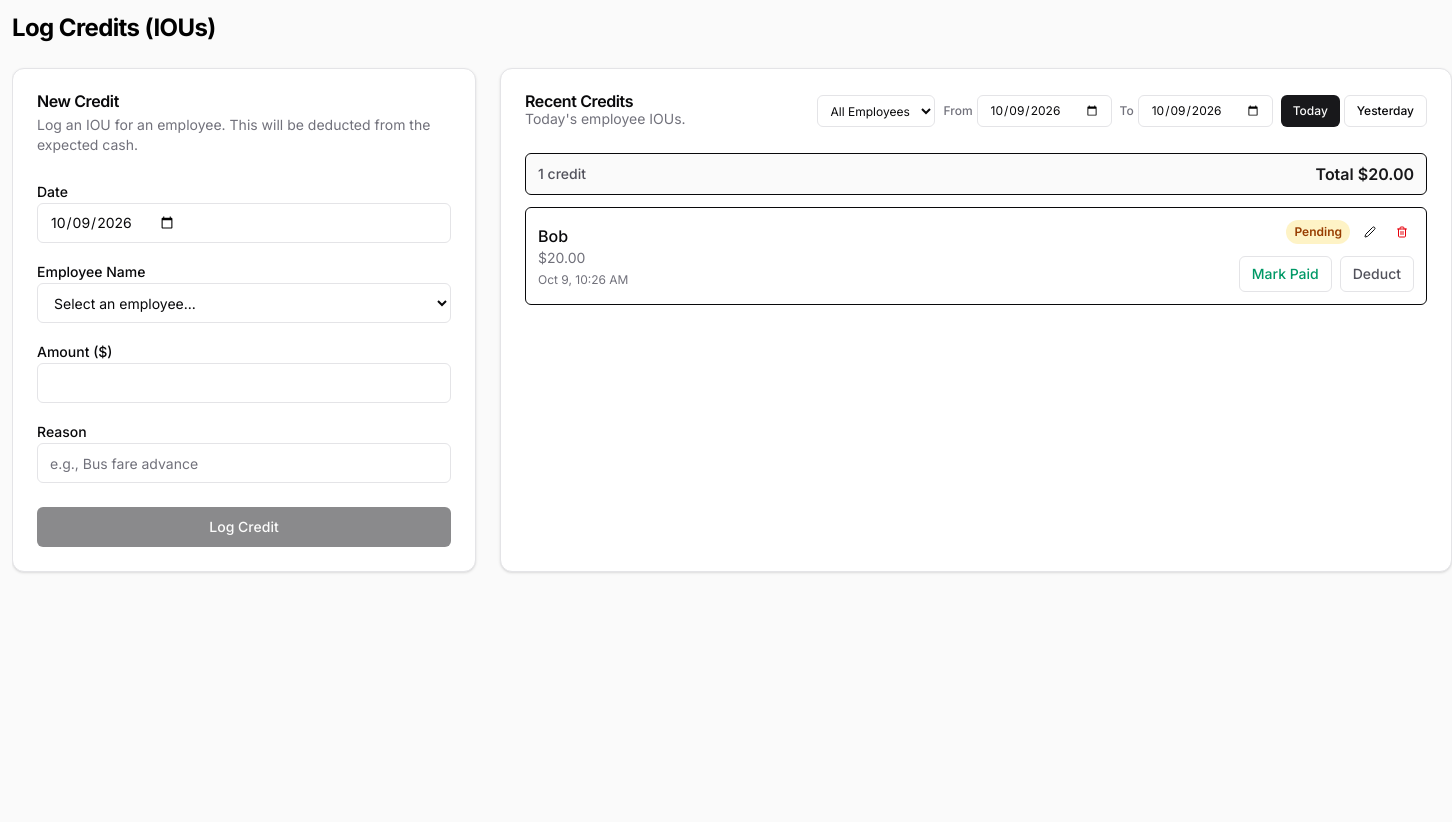
Test: Credits - Edit & Failure Paths › edits a credit inline and updates it via PUT
Click the 3rd button: (1370, 232) x1=1358 y1=220 x2=1382 y2=244
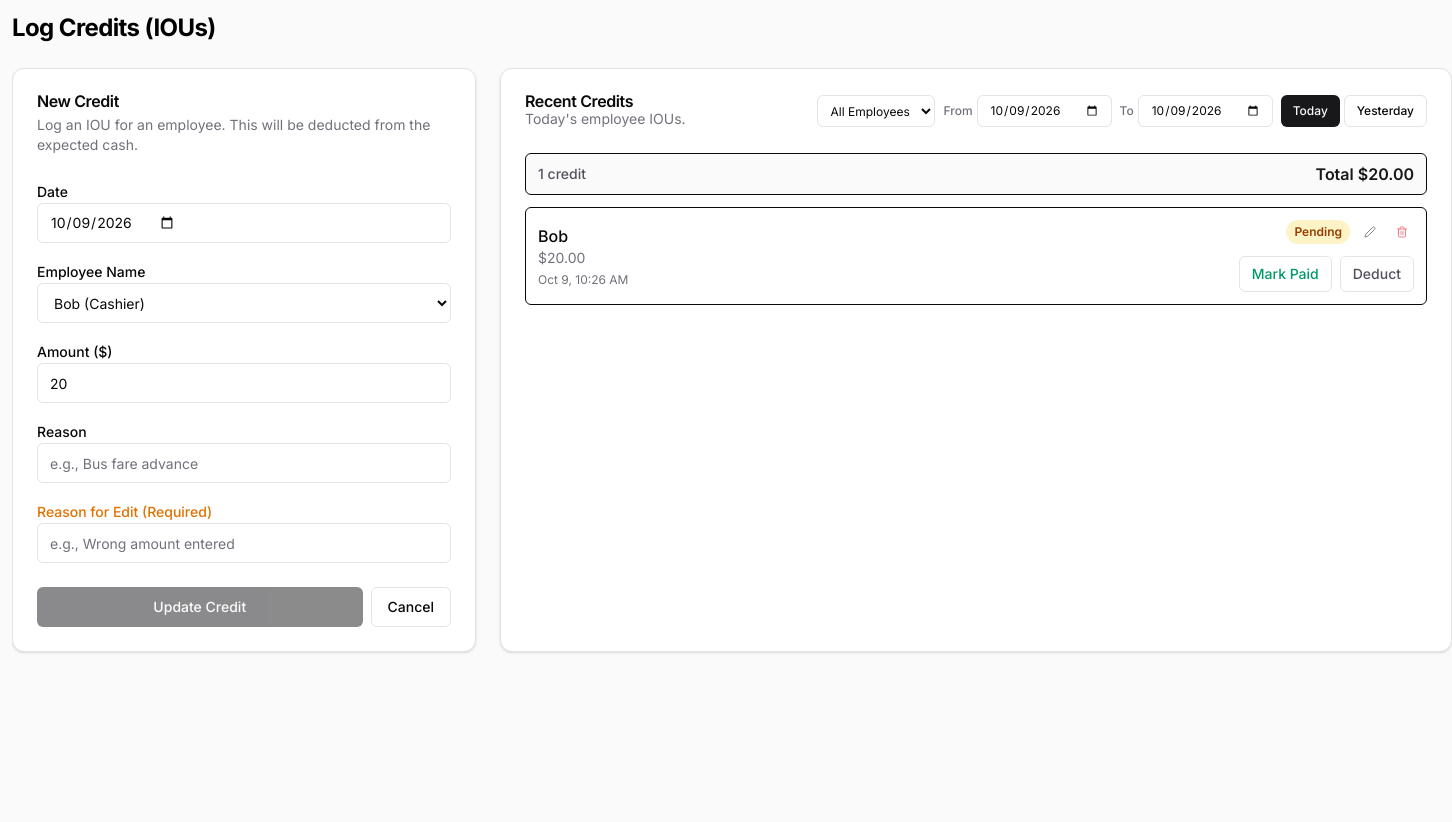
Replace the text in the number field labelled "Amount ($)" with "25": (244, 383) x1=37 y1=363 x2=451 y2=403
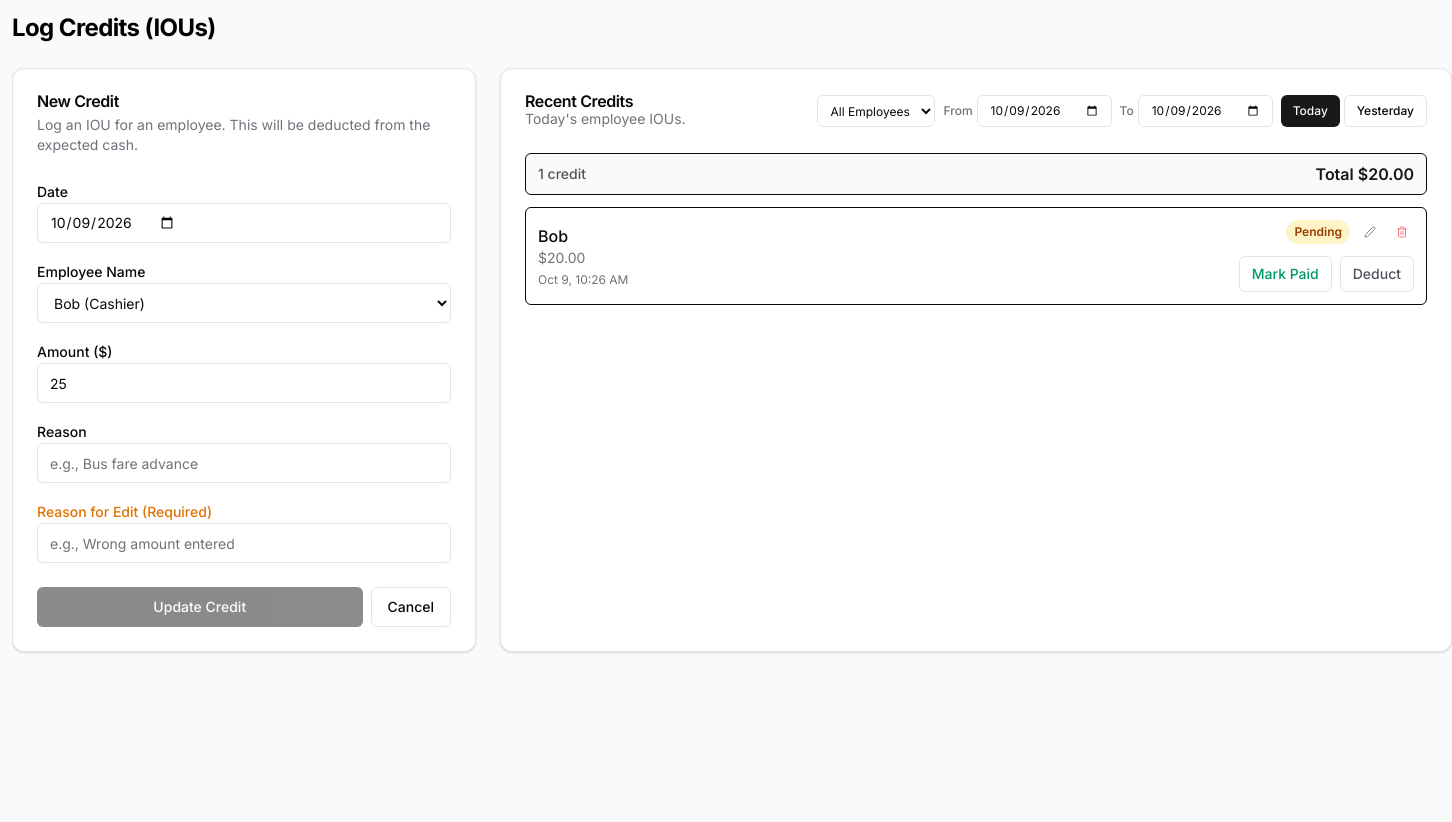
In the field labelled "Reason for Edit (Required)": (244, 543) x1=37 y1=523 x2=451 y2=563, type "Correct amount"
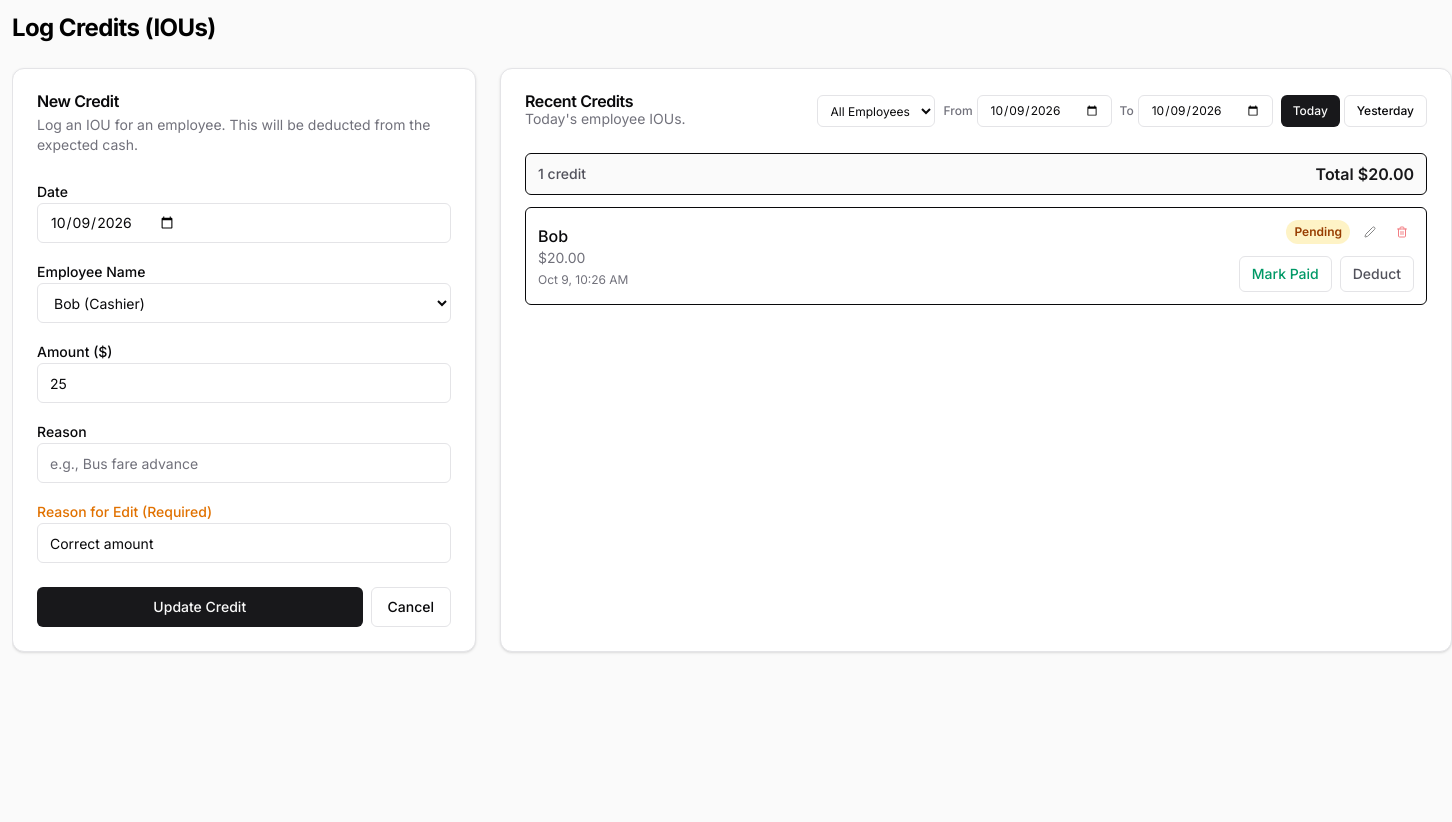
Click the button "Update Credit": (200, 607) x1=37 y1=587 x2=362 y2=627
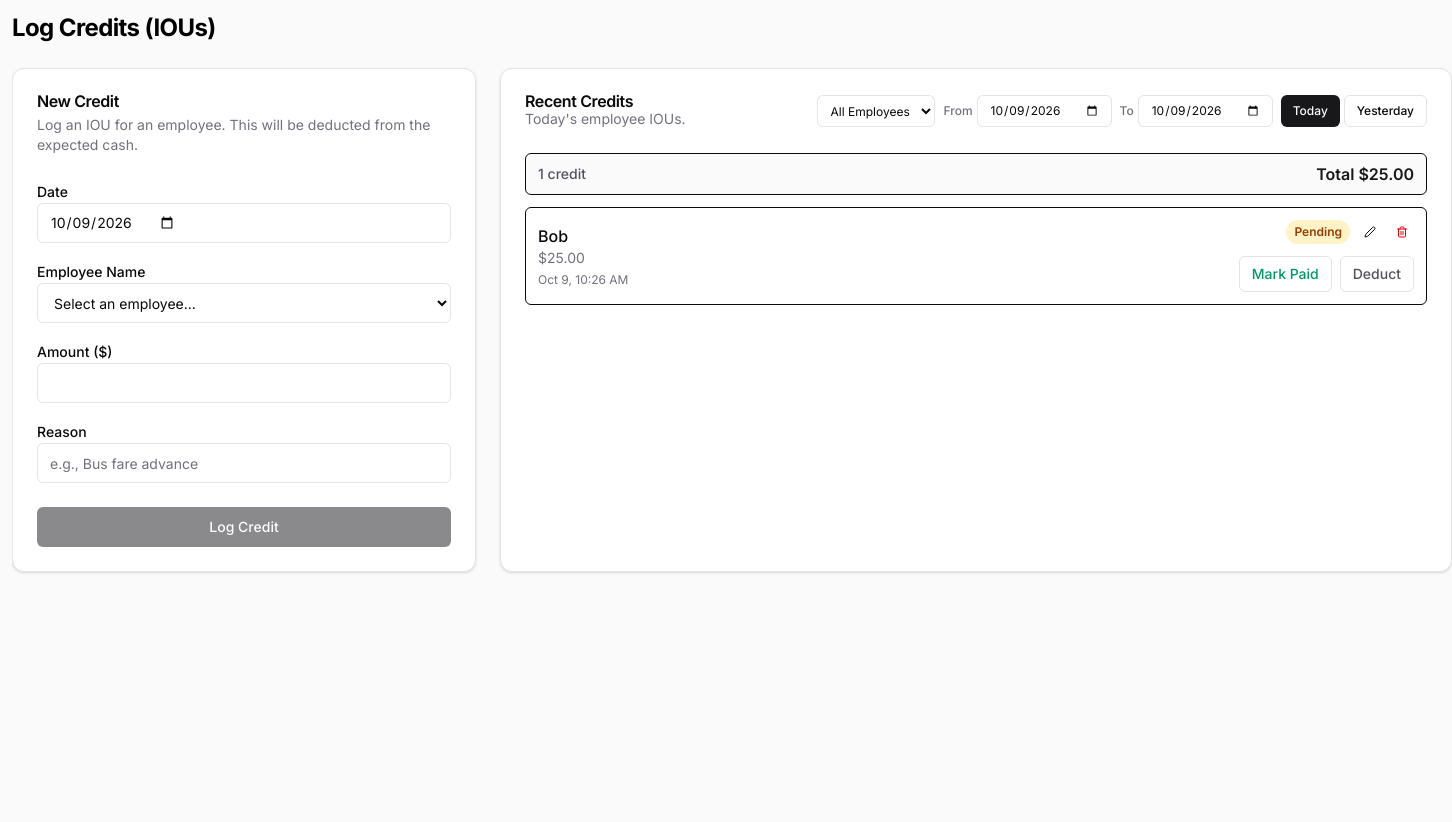
Expected: the text "$25.00" is shown, x1=538 y1=249 x2=585 y2=266
